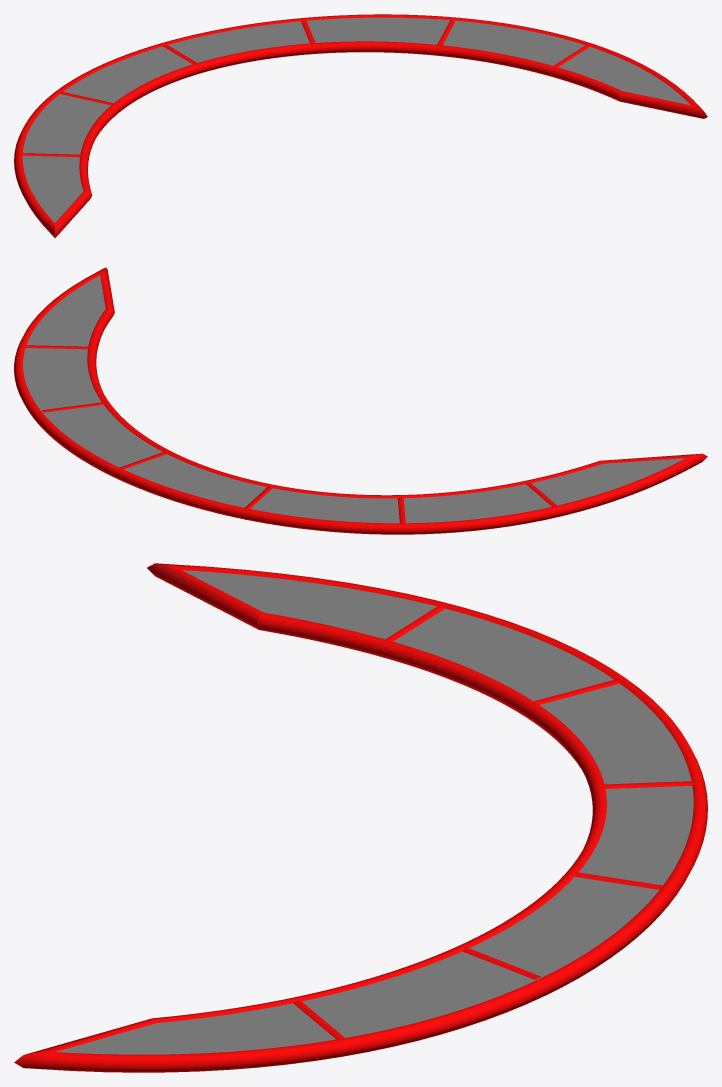
The model's file is Long way.FBX.
3 renders of one model, top to bottom at view 1: azimuth 30°, elevation 25°; view 2: azimuth 150°, elevation 25°; view 3: azimuth 270°, elevation 25°, orthographic. The views are drawn at different scales.
Parts seen in each view (by area): view 1: Line135, Line138; view 2: Line135, Line138; view 3: Line135, Line138.
Part boxes in pixels (<box>): Line135: <box>22,17,690,229</box>; Line138: <box>14,14,707,237</box>; Line135: <box>23,275,685,523</box>; Line138: <box>14,267,707,534</box>; Line135: <box>56,565,693,1054</box>; Line138: <box>14,563,707,1072</box>.
Bounding box in the file's own units: 18 × 0.273 × 10.56.
